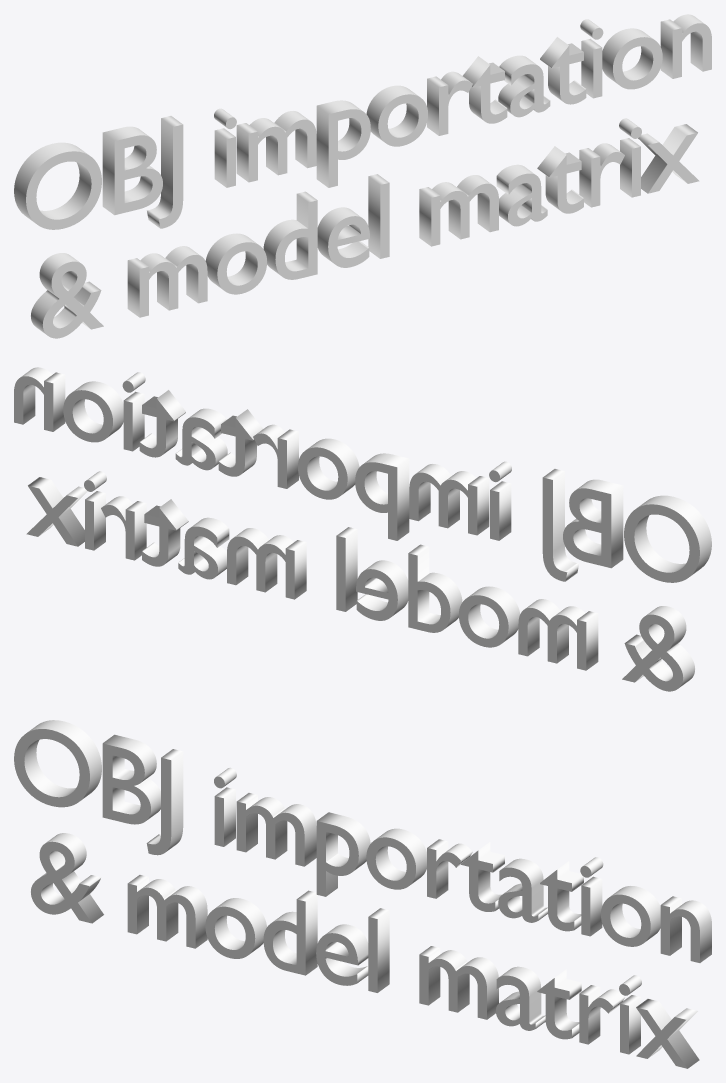
The model's file is obj_importation.obj.
3 renders of one model, top to bottom at view 1: azimuth 30°, elevation 25°; view 2: azimuth 150°, elevation 25°; view 3: azimuth 330°, elevation 25°, orthographic.
Parts seen in each view (by area): view 1: Text_Text_Material; view 2: Text_Text_Material; view 3: Text_Text_Material.
Boxes of the visible parts, box(x1,y1,x2,y2) form: Text_Text_Material: box(14, 14, 711, 338); Text_Text_Material: box(14, 367, 711, 691); Text_Text_Material: box(14, 720, 711, 1068).
Bounding box in the file's own units: 6.61 × 1.7 × 0.2.
1 material, 1 textured.
